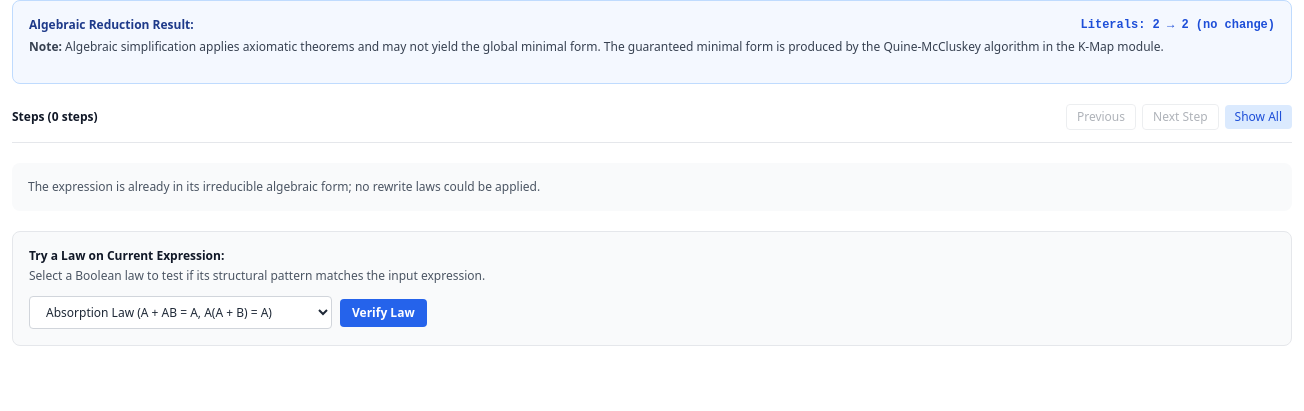
Test case: SimplificationSteps › verifies "Try a law" failure with pedagogical explanation when law does not match
The image size is (1304, 411).
Select involution (double negation) which does not apply to A + B
Select "Involution ((A')' = A)" in the dropdown: (180, 312) x1=29 y1=296 x2=332 y2=329
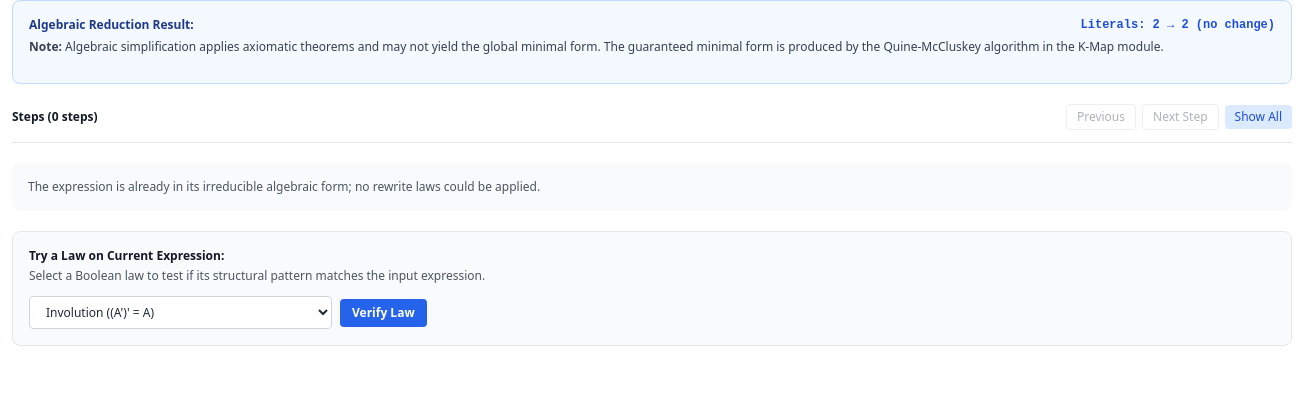
Click the button "Verify Law": (383, 312) x1=340 y1=298 x2=427 y2=326
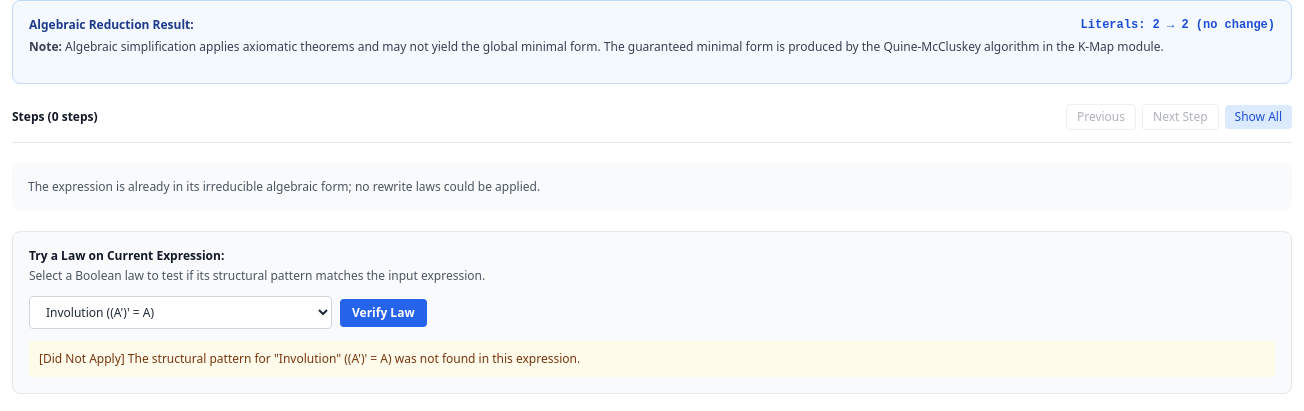
Now the message shows "[Did Not Apply]", box x1=39 y1=350 x2=580 y2=367
Now the message shows "Involution", box x1=39 y1=350 x2=580 y2=367
